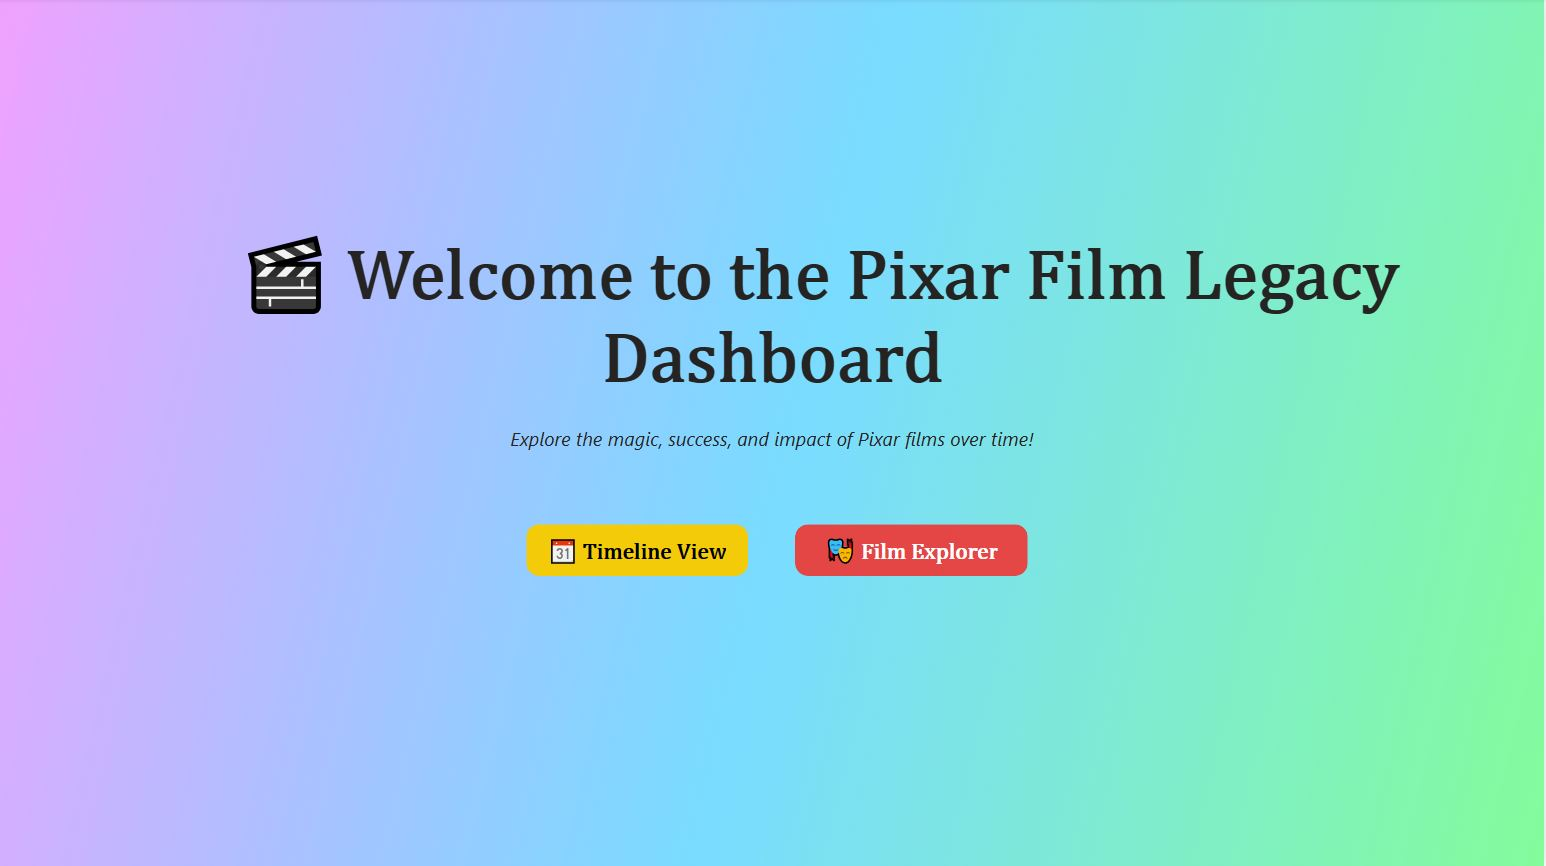

This screenshot's page, from the dashboard's own definition file:
{"tool":"powerbi","page":{"name":"Homepage","canvas":[1280,720],"ordinal":0},"visuals":[{"type":"textbox","box":[0,181.8,1280.5,271],"z":0},{"type":"actionButton","box":[435.9,435.9,184.1,42.9],"z":1000},{"type":"actionButton","box":[659.4,435.9,193.1,42.9],"z":2000}]}

Visuals, with their boxes in screenshot pixels (x1, y1, x2, y2), scaled from the page's 1280x720 canvas onto the 1546x866 screenshot:
textbox: {"x1": 0, "y1": 219, "x2": 1545, "y2": 545}
actionButton: {"x1": 526, "y1": 524, "x2": 749, "y2": 576}
actionButton: {"x1": 796, "y1": 524, "x2": 1030, "y2": 576}
